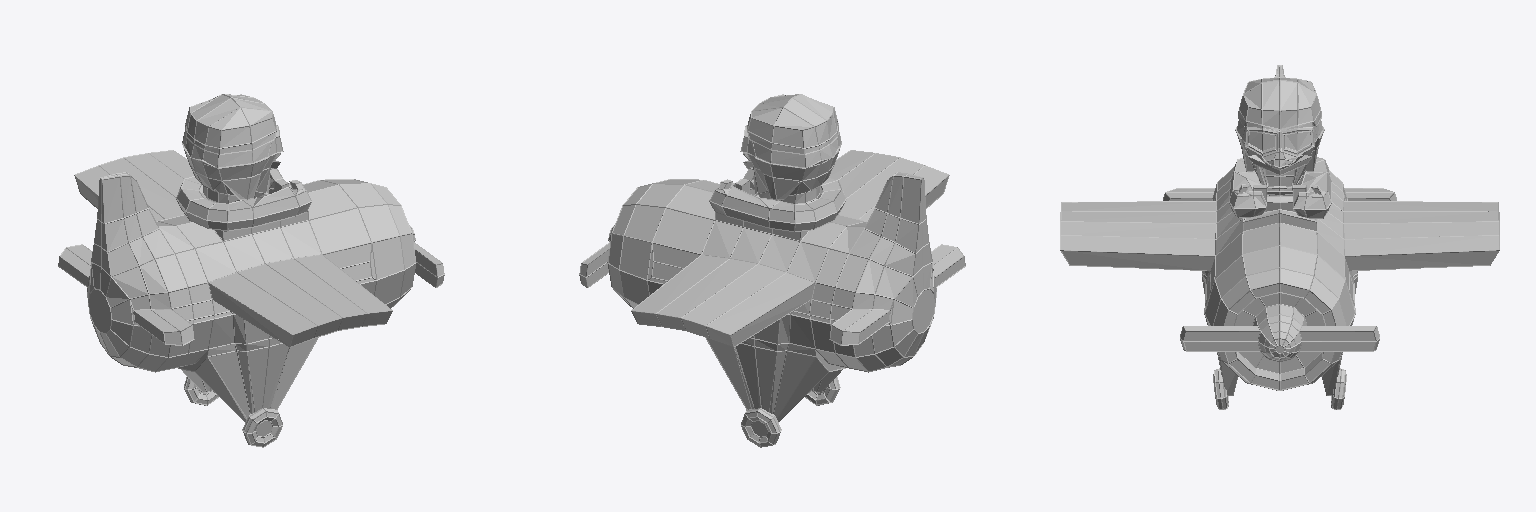
Rendered from Louie_wireframe02.obj.
3 renders of one model, left to right at view 1: azimuth 30°, elevation 25°; view 2: azimuth 150°, elevation 25°; view 3: azimuth 270°, elevation 25°, orthographic.
Visible parts, largest first — view 1: Mesh; view 2: Mesh; view 3: Mesh.
Boxes of the visible parts, x1=… form: Mesh: x1=58, y1=94, x2=444, y2=447; Mesh: x1=579, y1=94, x2=965, y2=447; Mesh: x1=1060, y1=65, x2=1499, y2=409.
Size of the model in its own units: 5.88 by 5.92 by 7.16.